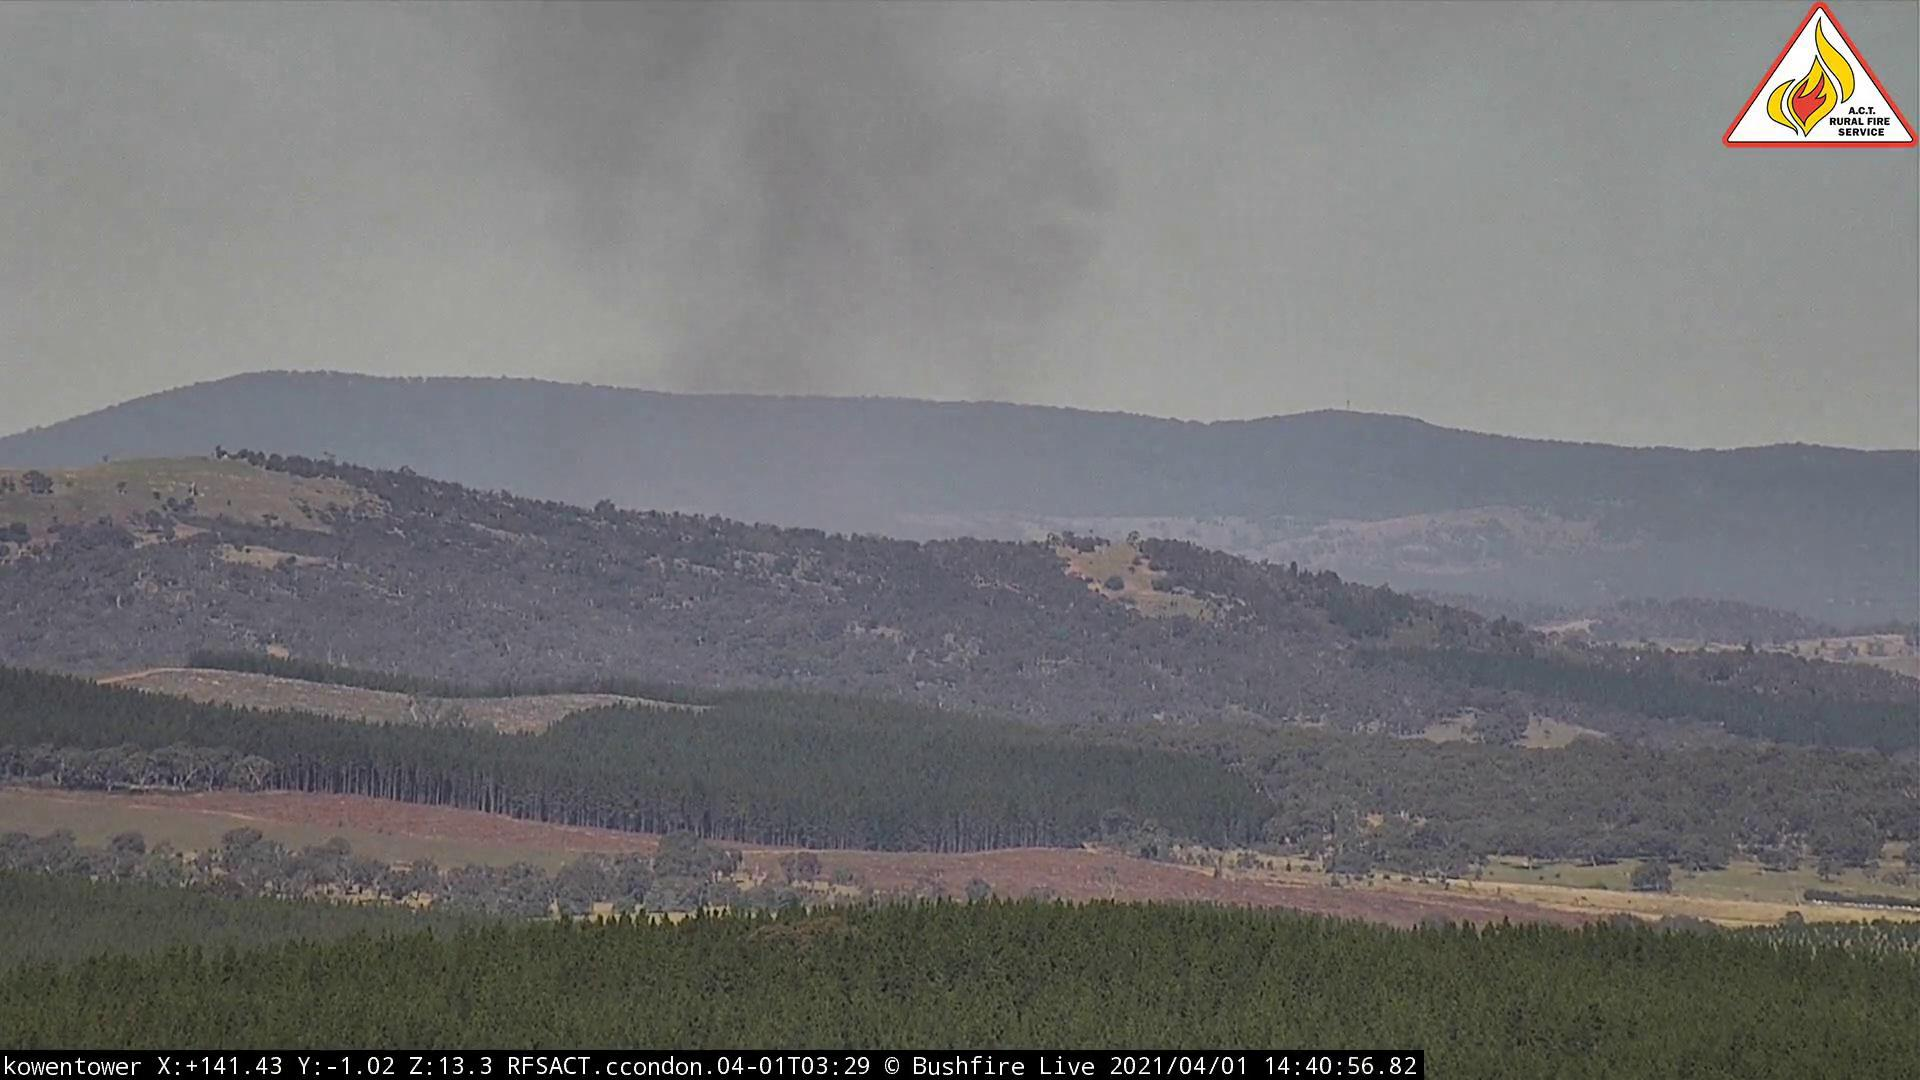Smoke: (454, 3, 1122, 504)
